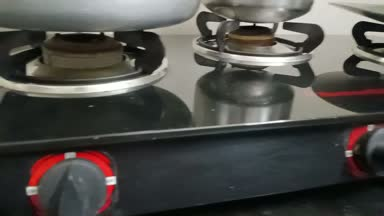noflame_gason: (8, 29, 146, 216)
